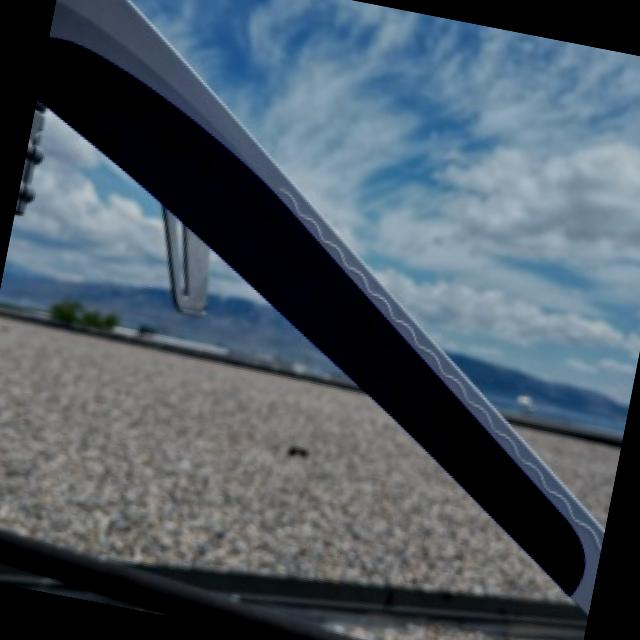healthy: (40, 0, 604, 607)
